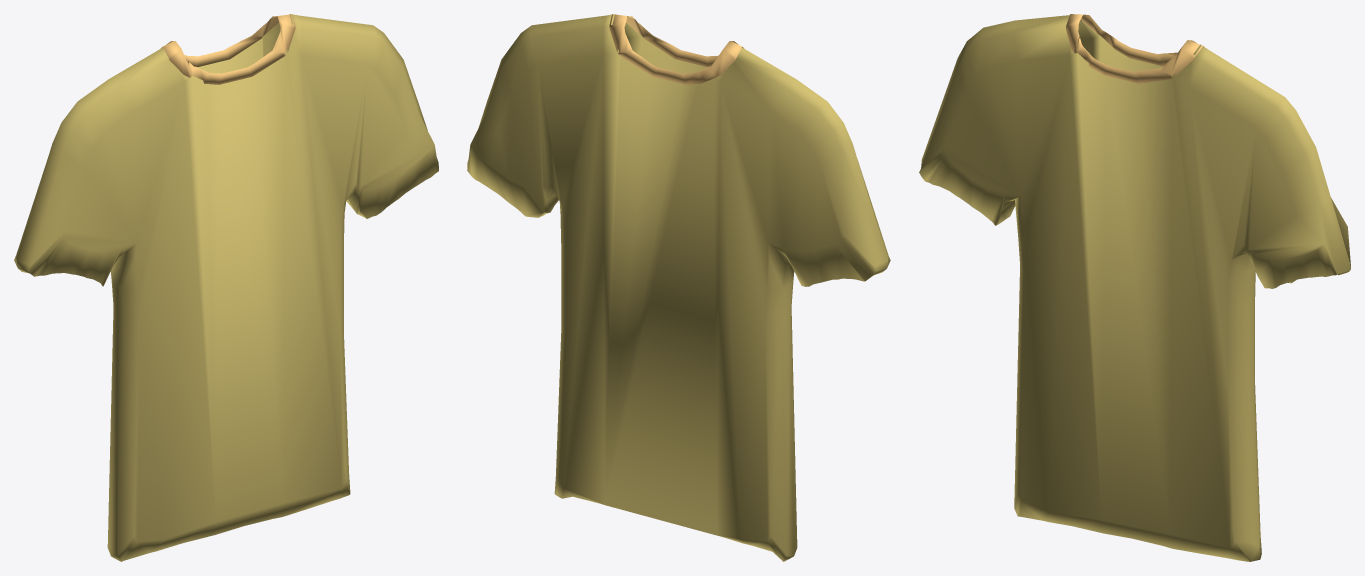
The model's file is yellow.dae.
The picture shows the model from 3 angles, left to right: view 1: azimuth 30°, elevation 25°; view 2: azimuth 150°, elevation 25°; view 3: azimuth 330°, elevation 25°; orthographic projection. The views are drawn at different scales.
Visible parts, largest first — view 1: Group_1_001, Group_2_001; view 2: Group_1_001, Group_2_001; view 3: Group_1_001, Group_2_001.
Part boxes in pixels (x1,y1,x2,y2): Group_1_001: (14, 14, 438, 561); Group_2_001: (160, 14, 295, 84); Group_1_001: (467, 14, 890, 561); Group_2_001: (609, 14, 743, 84); Group_1_001: (919, 15, 1350, 561); Group_2_001: (1066, 14, 1203, 83).
Size of the model in its own units: 2.35 by 0.2281 by 2.68.
